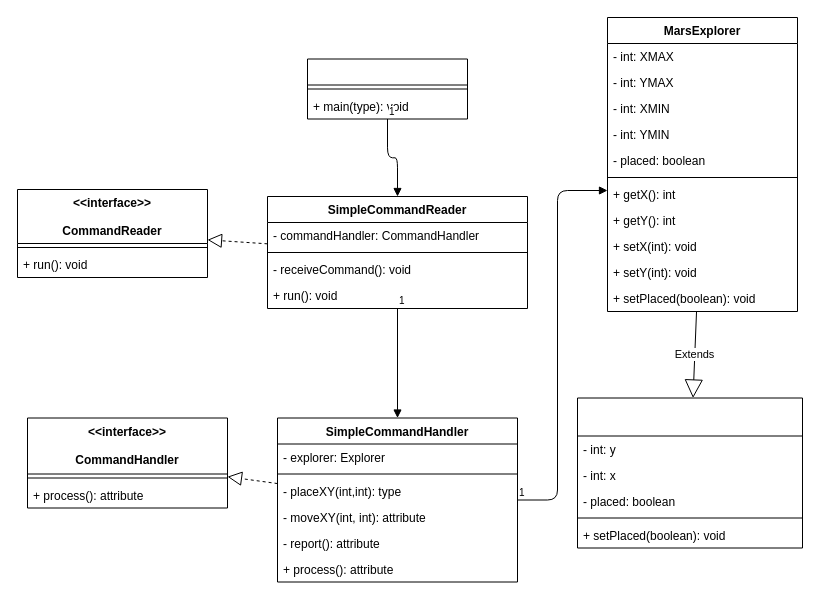
Some shapes in this 820 by 602 pixel diagram are drawn without their labels. The box of each missing label's shape, as (x1, y1, x2, y2) in pixels:
Explorer: (576, 397, 802, 548)
SimulatorApplication: (306, 58, 468, 119)
